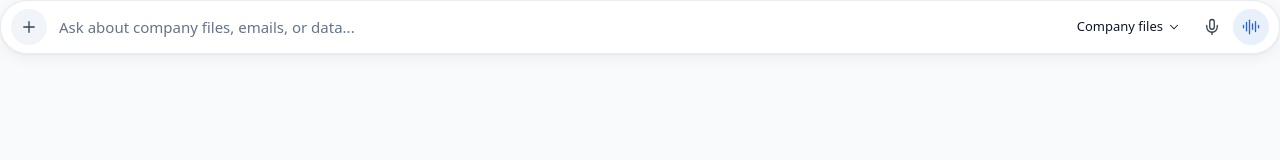
Scenario: Composer › shows Attach File and waveform voice control when idle, then switches to Send when typing
The width and height of the screenshot is (1280, 160).
Expected: the button named "Attach File" is shown, [11,9,47,45]
Click the button named "Start voice conversation": (1251, 27) [1233,9,1269,45]
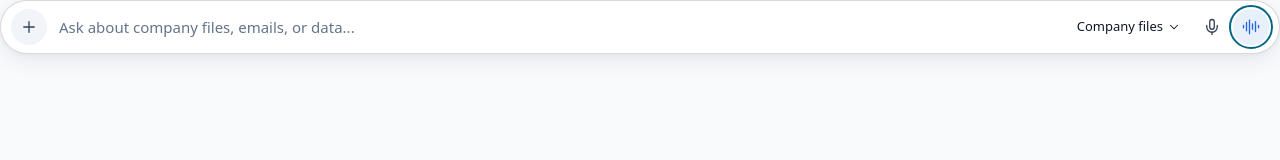
In the text box named "Ask Nanvi": (557, 27) [55,9,1059,45], type "Hello"
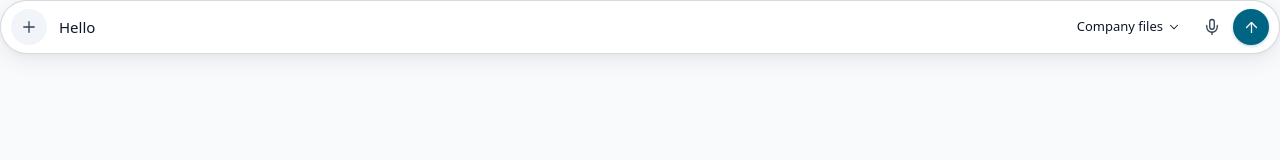
Result: the button named "Send message" is shown at [1233,9,1269,45]
